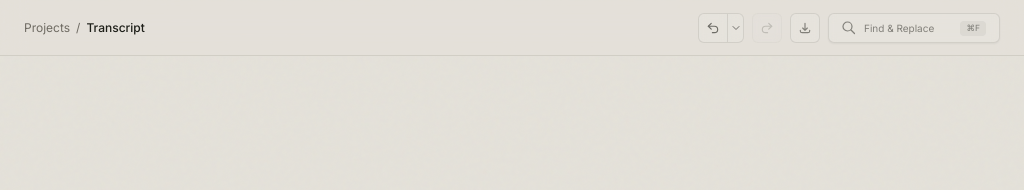
Test case: ContextualHeader › the undo list names the steps newest first and undoes up to the one chosen
Click the button named "Undo list": click(736, 28) [728,13,744,43]
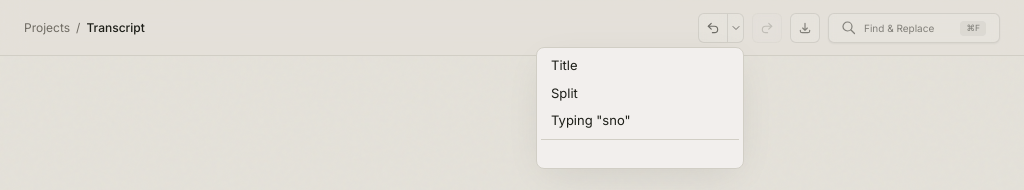
Check: the menu items read "Title", "Split", "Typing \"sno\"", in this order
Hover over the menu item "Split": (564, 92) [551,84,578,100]
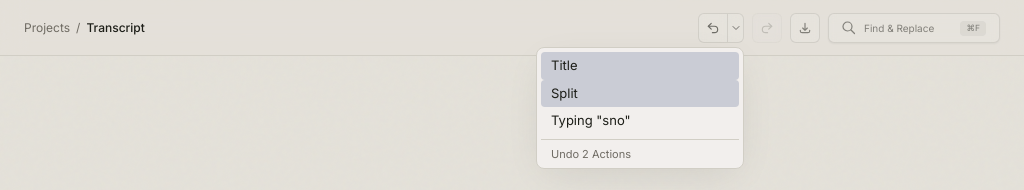
Check: the text "Undo 2 Actions" is shown, box [541,138,739,164]
Click the menu item "Split": click(640, 93) [541,80,739,107]
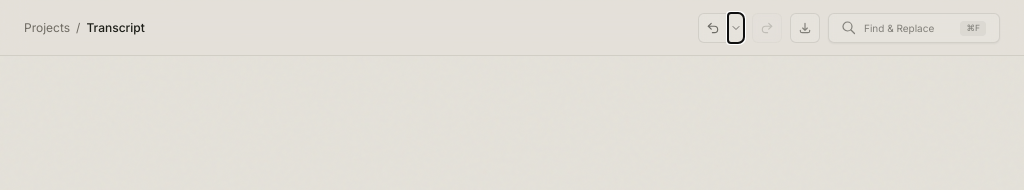
Check: the menu is gone
